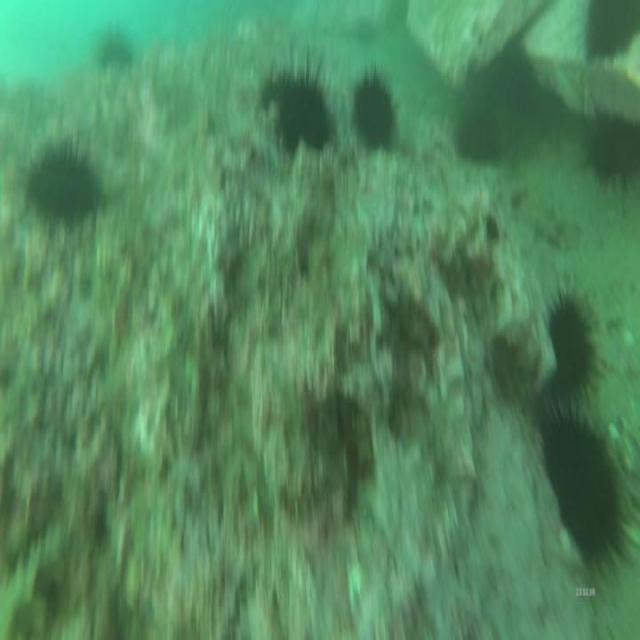echinus: (537, 395, 635, 586), (539, 276, 608, 412), (20, 132, 102, 228), (274, 41, 336, 155), (343, 55, 401, 155), (580, 103, 640, 199), (579, 1, 640, 69), (93, 19, 137, 79)
